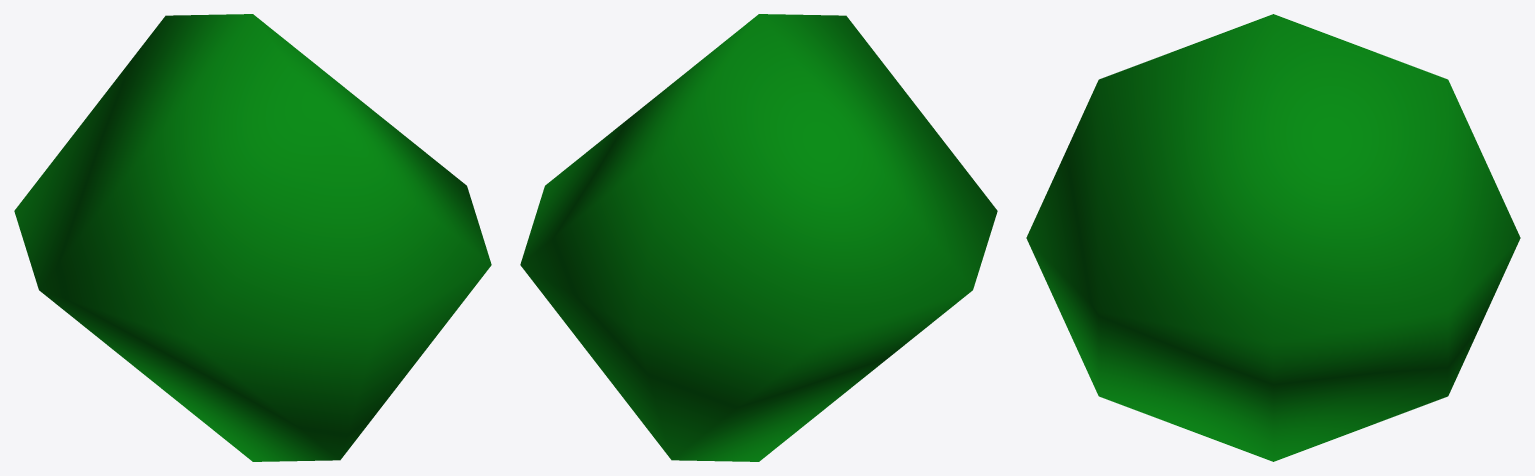
File: bullet2.FBX
The picture shows the model from 3 angles, left to right: view 1: azimuth 30°, elevation 25°; view 2: azimuth 150°, elevation 25°; view 3: azimuth 270°, elevation 25°; orthographic projection.
Visible parts, largest first — view 1: pea_proj; view 2: pea_proj; view 3: pea_proj.
Boxes of the visible parts, x1,y1,x2,y2 form: pea_proj: [14, 14, 491, 461]; pea_proj: [520, 14, 997, 461]; pea_proj: [1026, 14, 1520, 461].
Size of the model in its own units: 508 by 508 by 508.
